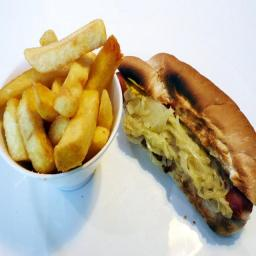hotdog: (112, 38, 256, 242), (0, 20, 127, 178)
